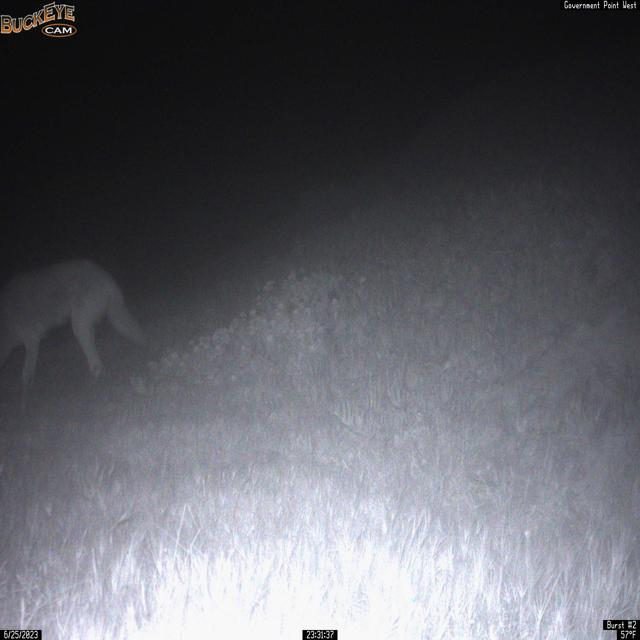coyote: (0, 257, 152, 405)
